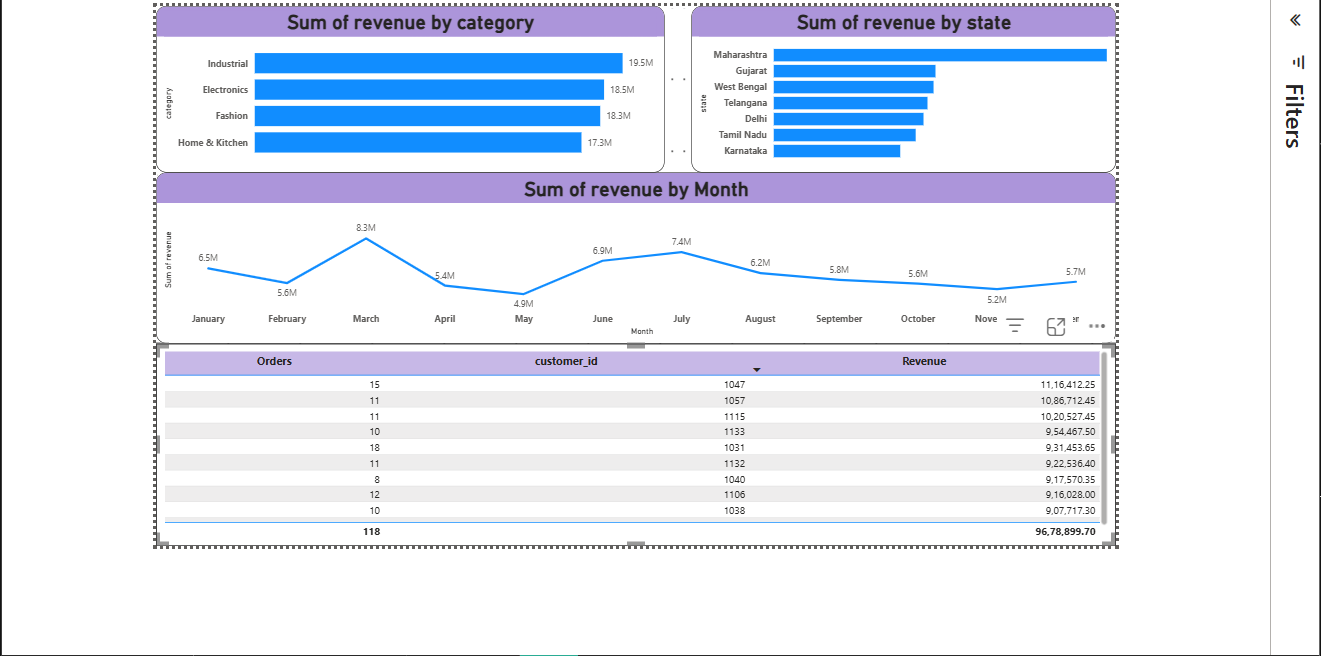

This screenshot's page, from the dashboard's own definition file:
{"tool":"powerbi","page":{"name":"Revenue ","canvas":[1280,720],"ordinal":1},"visuals":[{"type":"barChart","fields":{"Category":["orders.category"],"Y":["Sum(orders.revenue)"]},"box":[0,0,678,222],"z":0},{"type":"barChart","fields":{"Category":["orders.state"],"Y":["Sum(orders.revenue)"]},"box":[714,0,566,222],"z":1000},{"type":"tableEx","fields":{"Values":["CountNonNull(orders.order_id)","orders.customer_id","Sum(orders.revenue)"]},"box":[0,450,1280,270],"z":2000},{"type":"lineChart","fields":{"Category":["orders.order_date.Variation.Date Hierarchy.Month"],"Y":["Sum(orders.revenue)"]},"box":[0,222,1280,228],"z":3000}]}

Visuals, with their boxes on the page's 1280x720 design canvas (x1, y1, x2, y2). These are canvas units, not pixel positions in the 1321x656 screenshot, which may show the page scaled, cropped or inside an application window:
barChart - orders.category x Sum(orders.revenue): 0 0 678 222
barChart - orders.state x Sum(orders.revenue): 714 0 1280 222
tableEx - CountNonNull(orders.order_id) x orders.customer_id: 0 450 1280 720
lineChart - orders.order_date.Variation.Date Hierarchy.Month x Sum(orders.revenue): 0 222 1280 450
